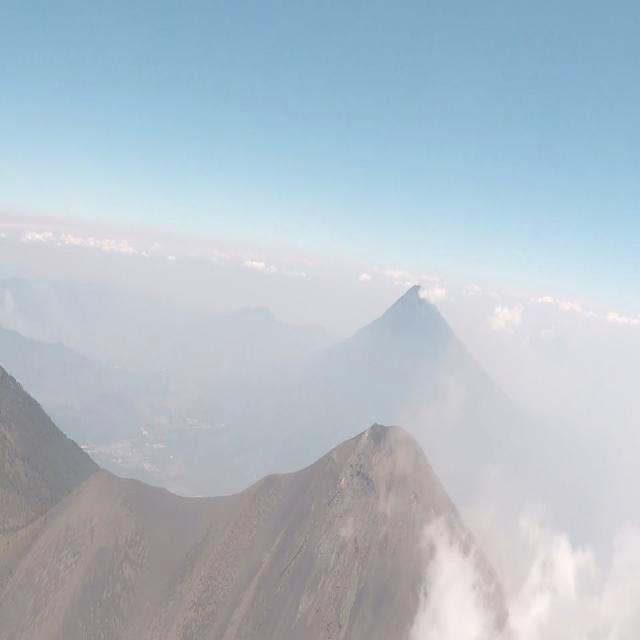Summit: (239, 397, 509, 635)
